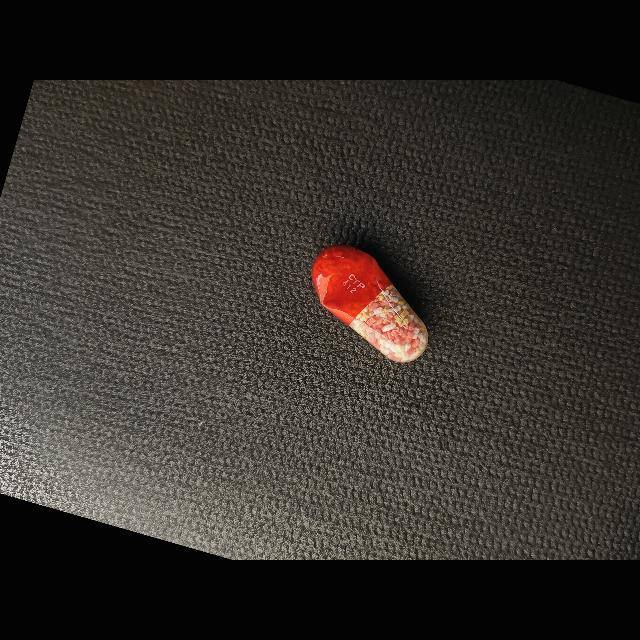Defective Capsule: (312, 246, 428, 363)
